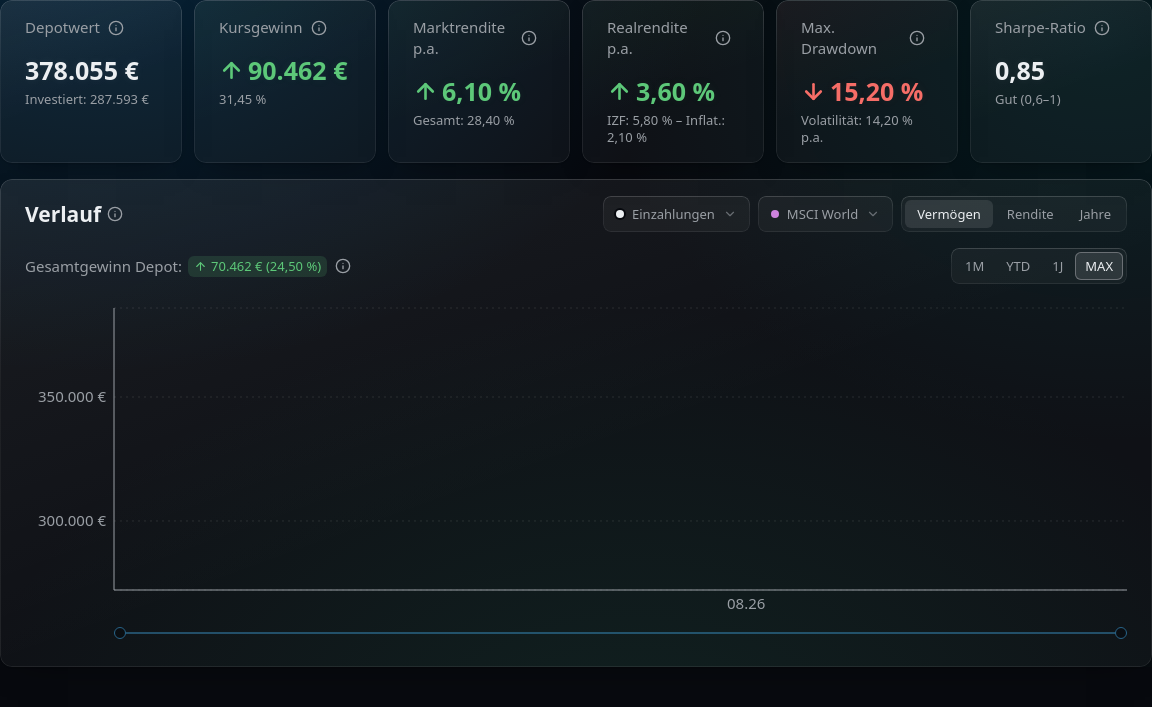
Test: VerlaufKachel › zeigt den Regler in der Demo gesperrt, den Grund im Popover
The width and height of the screenshot is (1152, 707).
Click the slider named "Beginn des Zeitraums" at (120, 633), box [114, 627, 126, 639]
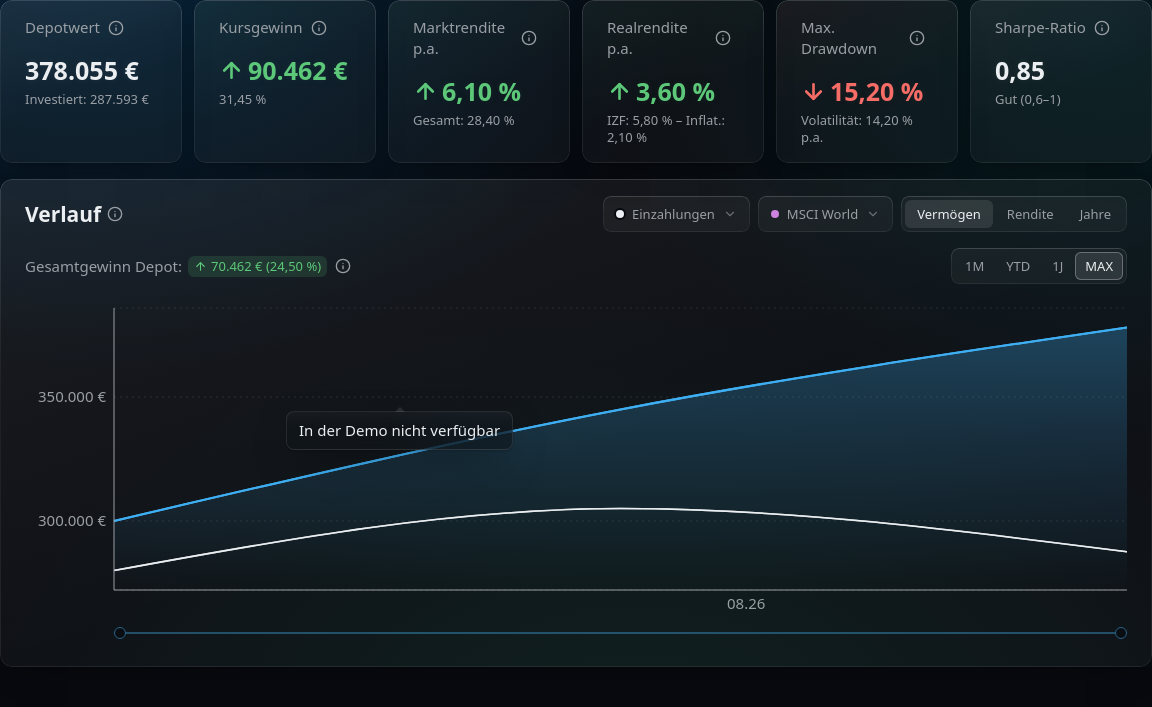
Expected: the dialog reads "In der Demo nicht verfügbar", [299, 420, 500, 440]
